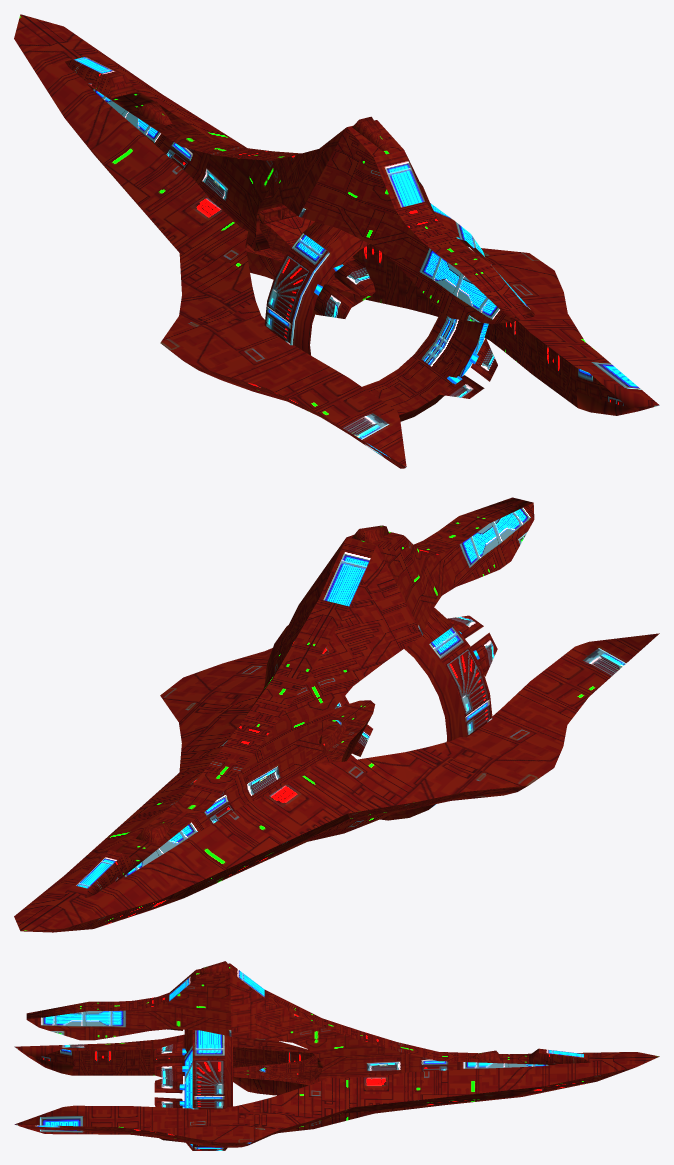
Rendered from Vul_Vultres.fbx.
3 views of the same model, one above another, from view 1: azimuth 30°, elevation 25°; view 2: azimuth 150°, elevation 25°; view 3: azimuth 270°, elevation 25° (orthographic). The views are drawn at different scales.
Parts seen in each view (by area): view 1: Vul_Vultres; view 2: Vul_Vultres; view 3: Vul_Vultres.
Boxes of the visible parts, x1,y1,x2,y2 form: Vul_Vultres: (14, 14, 659, 468); Vul_Vultres: (14, 497, 659, 932); Vul_Vultres: (14, 961, 659, 1150).
Bounding box in the file's own units: 407 × 301 × 974.
Materials: 1 (1 with a texture image).
